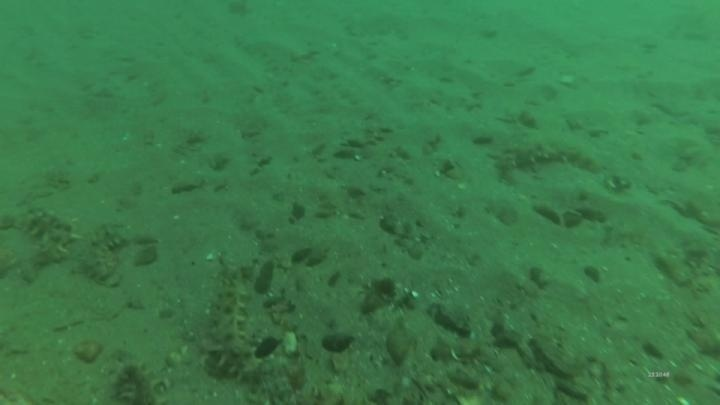holothurian: (207, 259, 262, 382), (3, 201, 80, 267), (494, 135, 607, 177), (80, 220, 131, 287), (105, 364, 158, 405)
